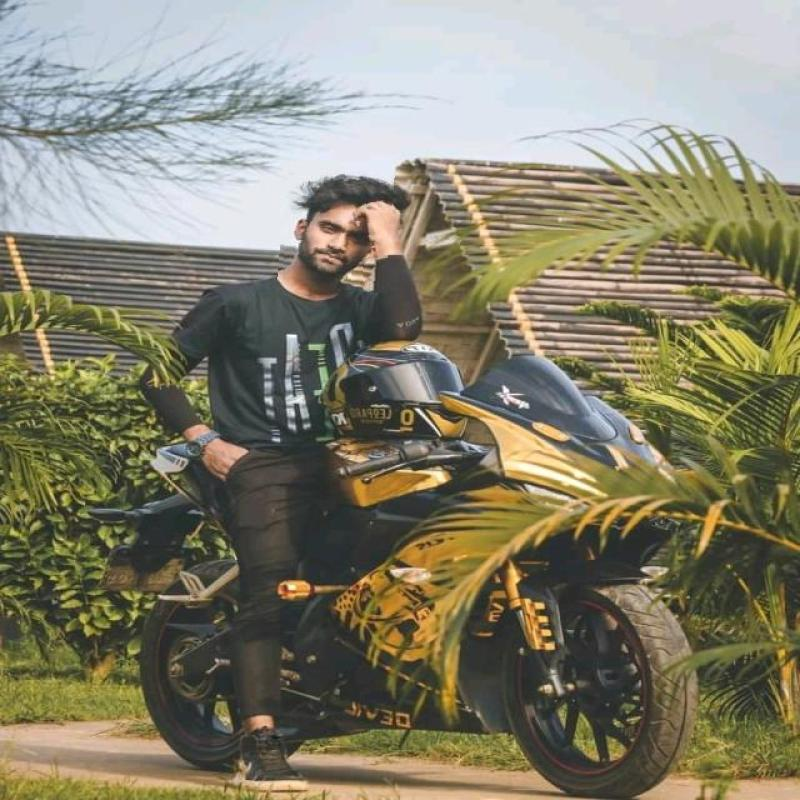nohelmet: (280, 163, 392, 292)
